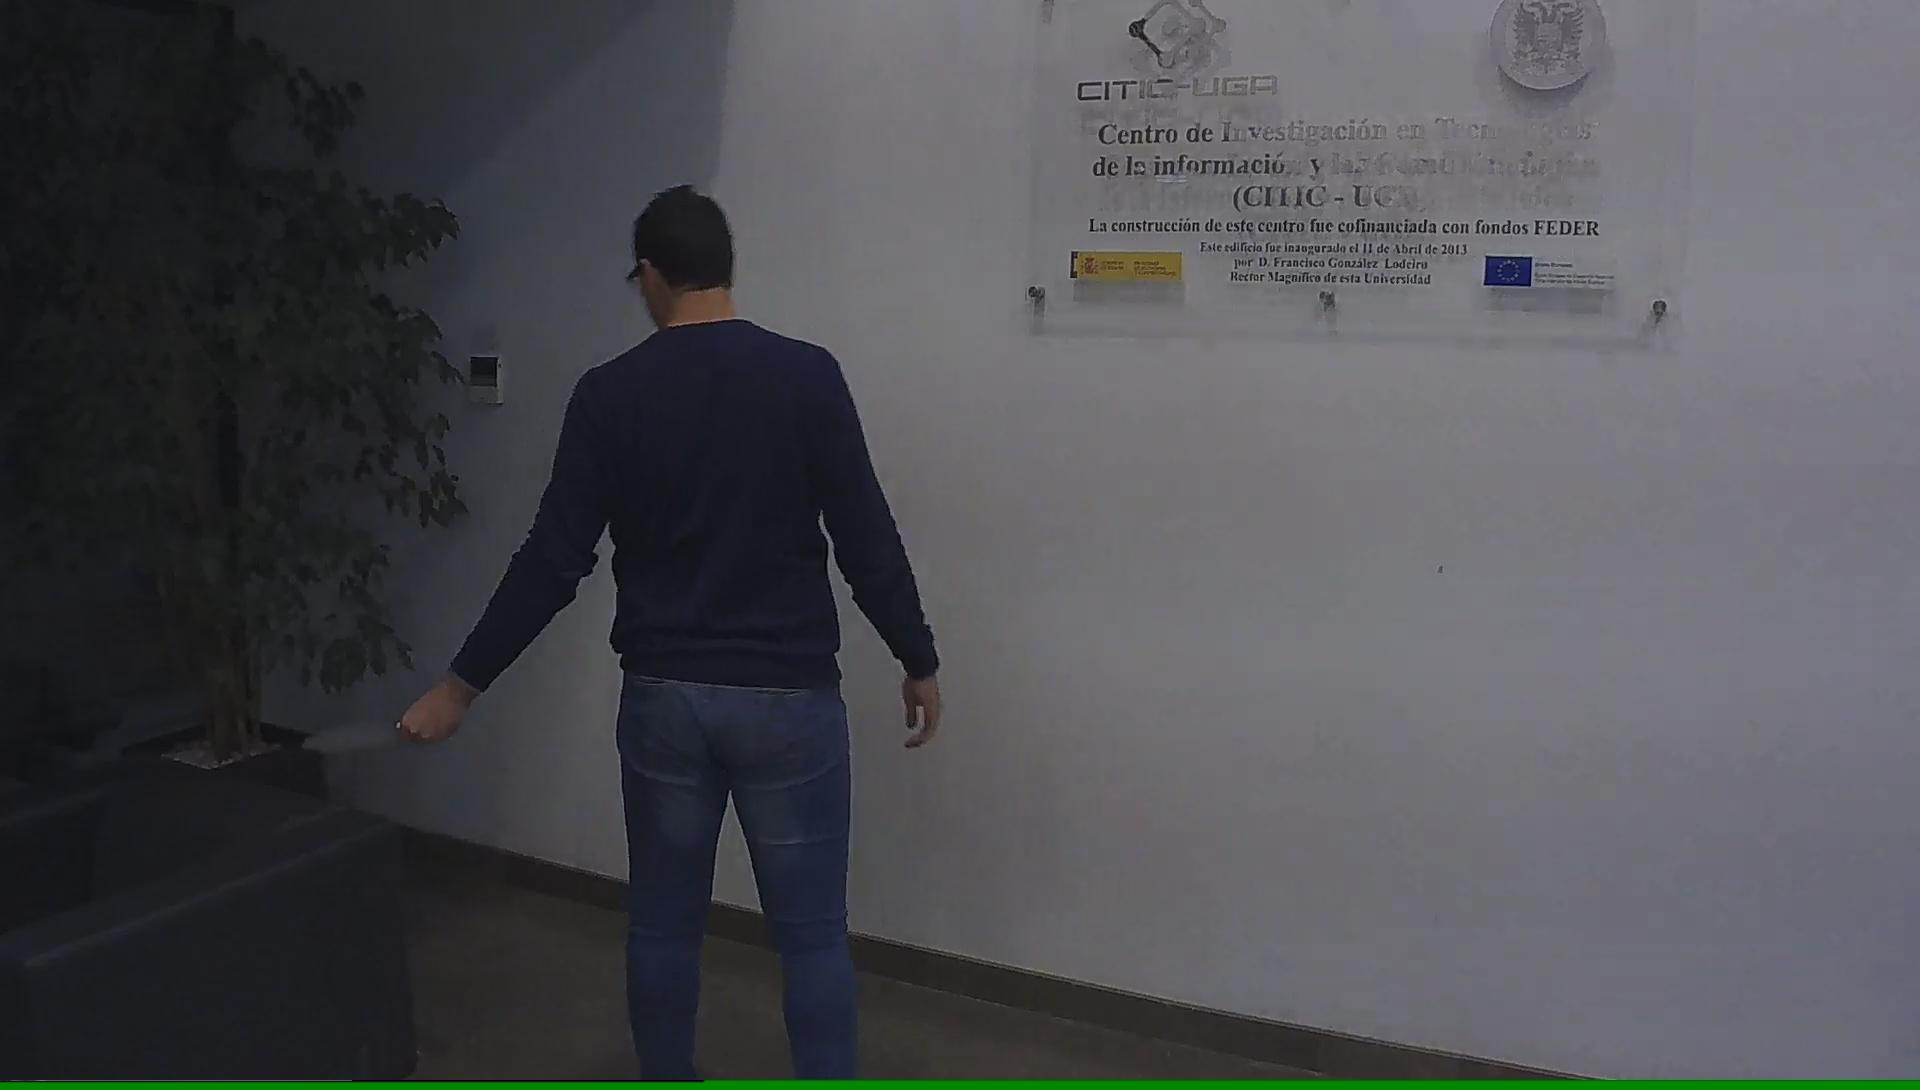criminal: (305, 185, 944, 1081)
weapon: (305, 706, 411, 764)
